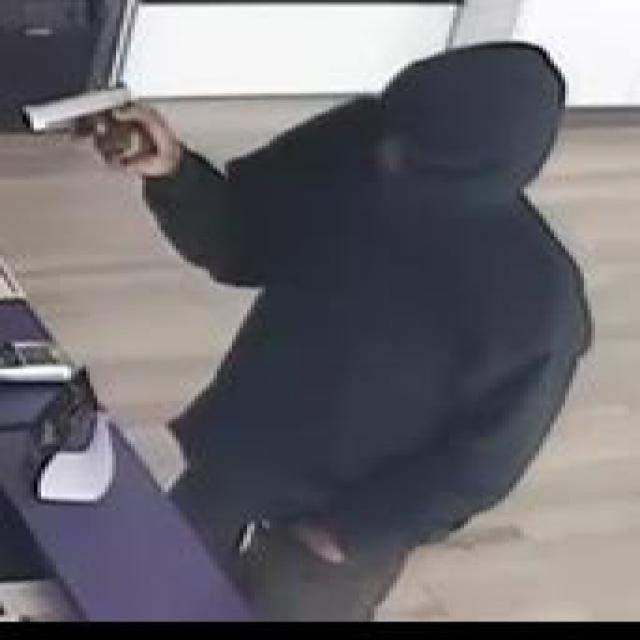weapon: (17, 82, 158, 170)
